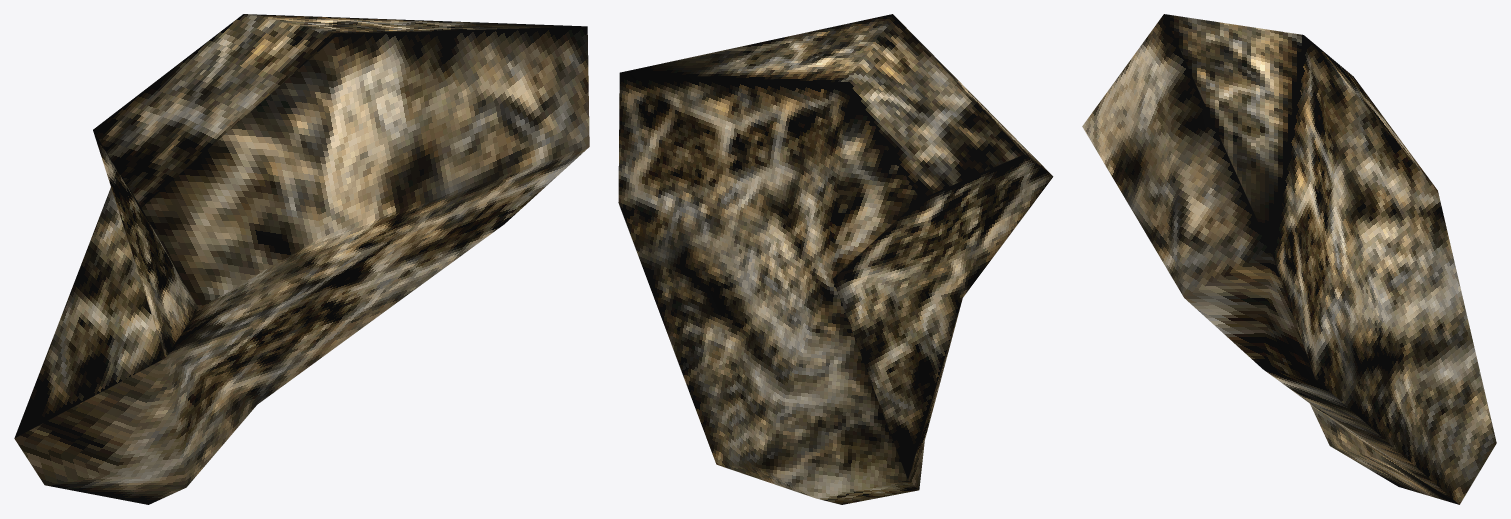
The model's file is asteroid4_3db.gltf.
3 views of the same model, side by side, from view 1: azimuth 30°, elevation 25°; view 2: azimuth 150°, elevation 25°; view 3: azimuth 270°, elevation 25° (orthographic). The views are drawn at different scales.
Parts seen in each view (by area): view 1: asteroid4.3db; view 2: asteroid4.3db; view 3: asteroid4.3db.
Part boxes in pixels (x1,y1,x2,y2): asteroid4.3db: (14,14,589,504); asteroid4.3db: (618,14,1053,504); asteroid4.3db: (1082,14,1496,504).
Bounding box in the file's own units: 2.83 × 3.01 × 2.26.
1 material, 1 textured.
